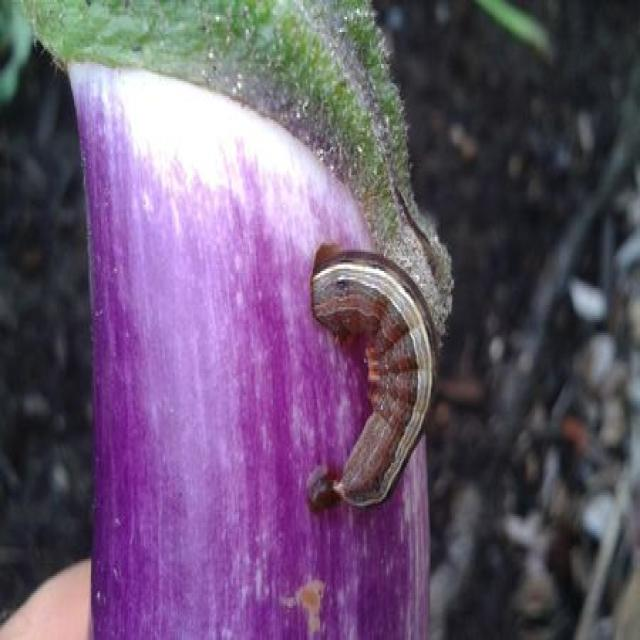Cutworm: (312, 252, 442, 520)
